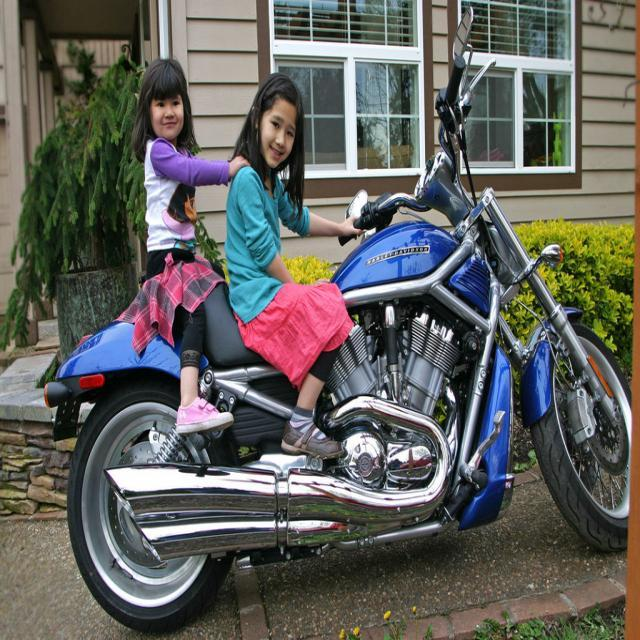bus: (43, 5, 629, 632)
